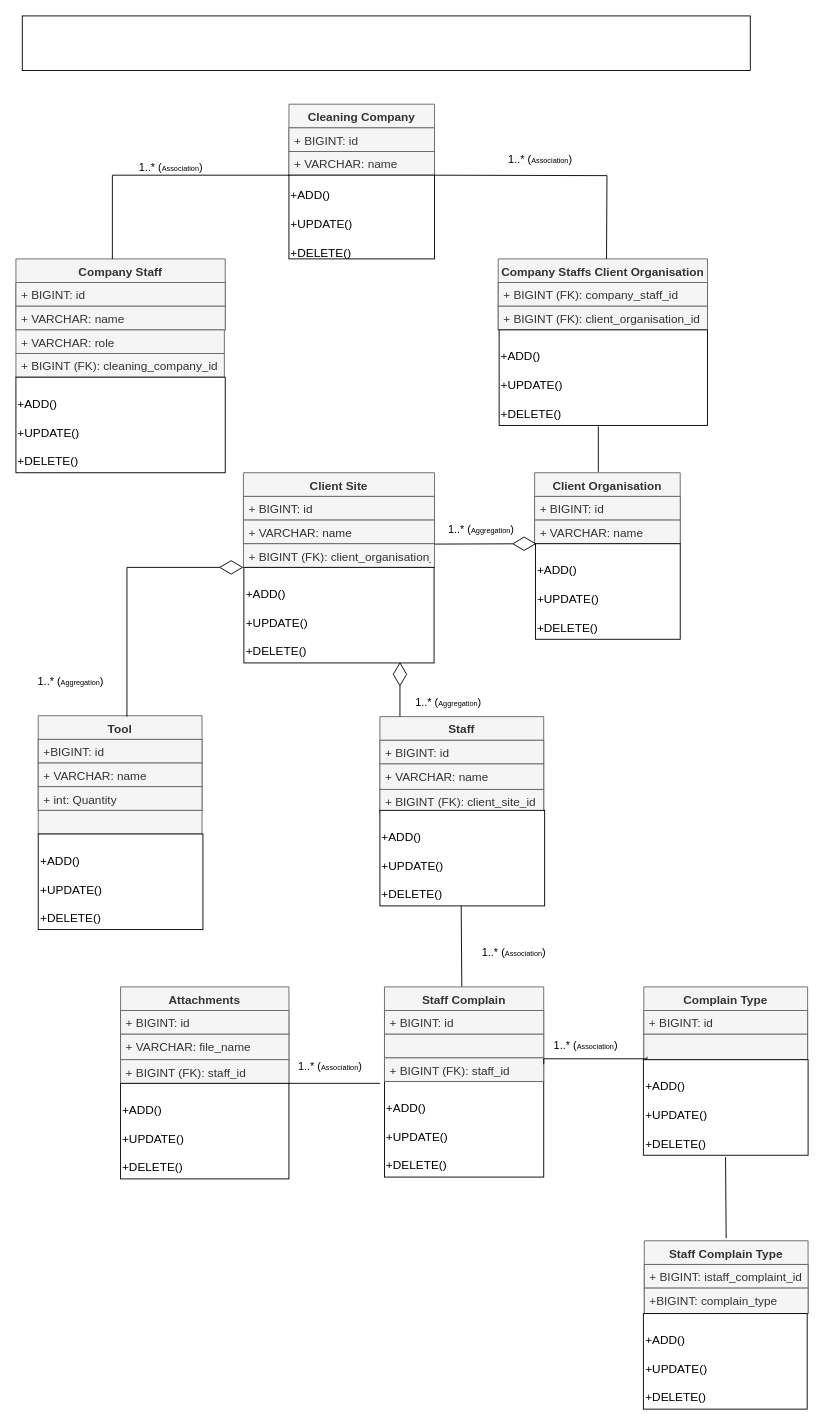
This 824x1425 diagram has some shape labels left out. The shapes that lost their labels are listed below. From the top down, each one's centre as x and y in pixels, then its label:
At (x=385, y=43): "UCMS CLASS DIAGRAM".
At (x=119, y=821): "+BIGINT (FK): client_site_id".
At (x=464, y=1045): "+ VARCHAR: description".
At (x=725, y=1046): "+ VARCHAR: type".
